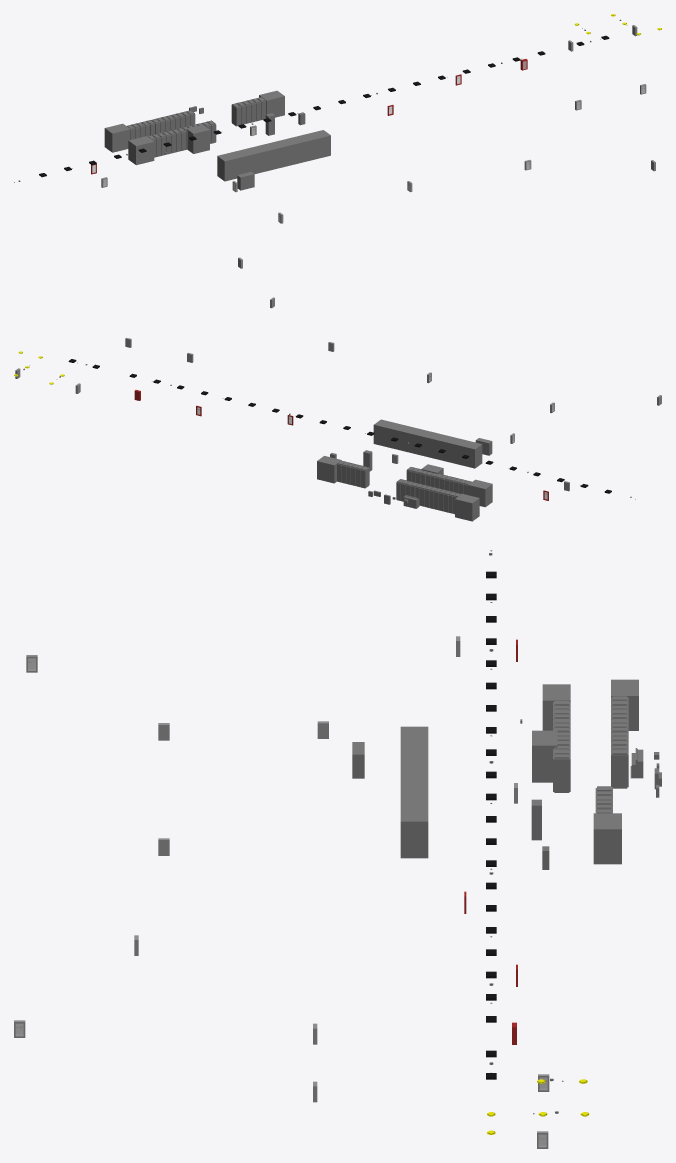
Rendered from F-1_shebei.glb.
3 renders of one model, top to bottom at view 1: azimuth 30°, elevation 25°; view 2: azimuth 150°, elevation 25°; view 3: azimuth 270°, elevation 25°, orthographic. The views are drawn at different scales.
Visible parts, largest first — view 1: gpdxt-2 [2128467], gpdxt-2 [2152523], gpdxt-8 [2137571], gpdxt-2 [2153746]; view 2: gpdxt-2 [2128467], gpdxt-2 [2152523], gpdxt-2 [2153746]; view 3: gpdxt-2 [2153746], gpdxt-6 [2154500], gpdxt-8 [2137571], gpdxt-2 [2128467].
Boxes of the visible parts, x1,y1,x2,y2 form: gpdxt-2 [2128467]: (104,123,130,152); gpdxt-2 [2152523]: (128,136,154,165); gpdxt-8 [2137571]: (186,125,209,153); gpdxt-2 [2153746]: (259,90,284,117); gpdxt-2 [2128467]: (455,494,479,521); gpdxt-2 [2152523]: (468,479,492,507); gpdxt-2 [2153746]: (317,456,341,483); gpdxt-2 [2153746]: (593,813,621,864); gpdxt-6 [2154500]: (400,815,428,858); gpdxt-8 [2137571]: (532,730,557,782); gpdxt-2 [2128467]: (611,679,638,730).
Size of the model in its own units: 77.95 by 3.14 by 36.96.
